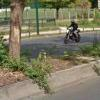Motorcycle: (57, 16, 83, 46)
